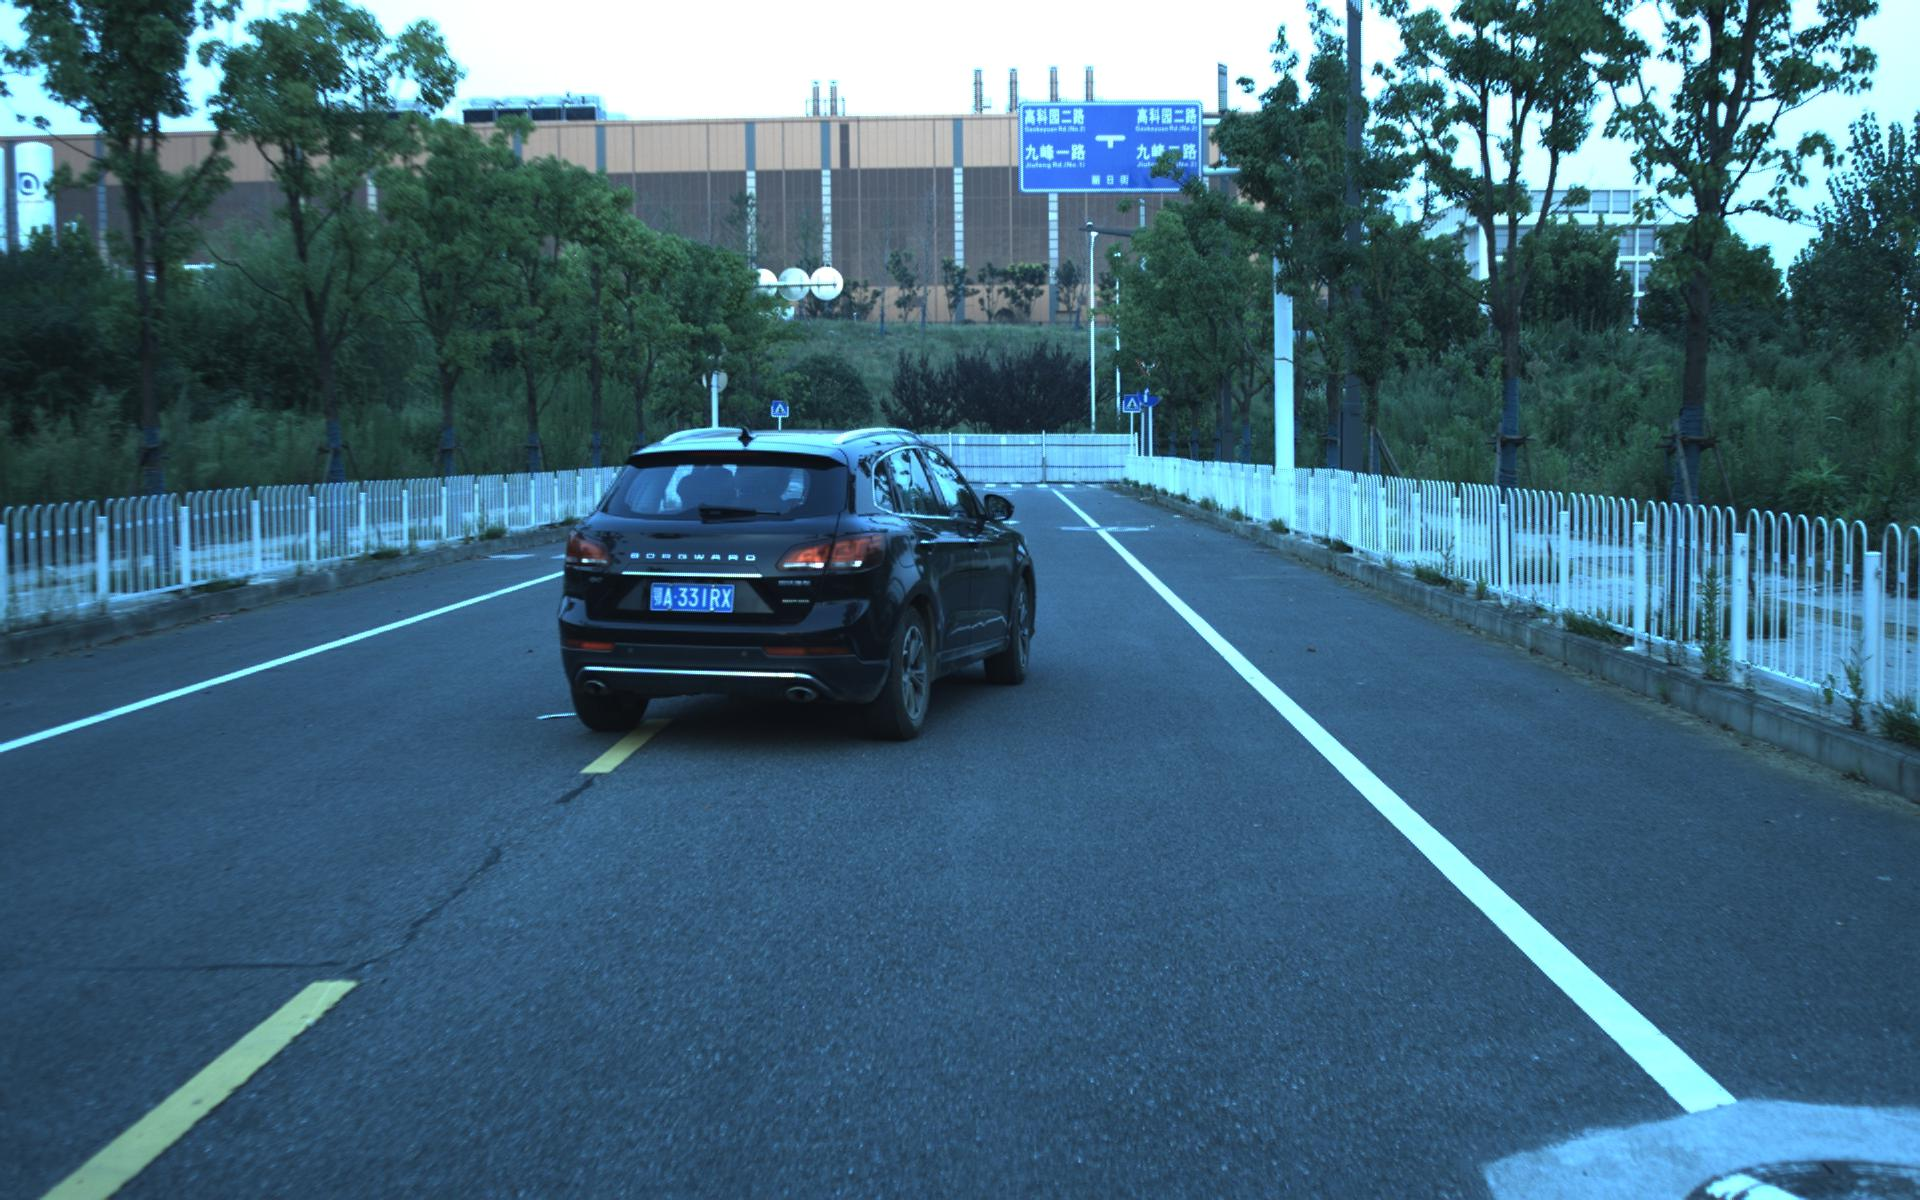Car: (536, 413, 1039, 751)
